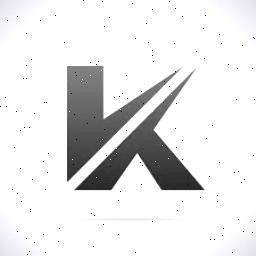k: (55, 50, 215, 222)
